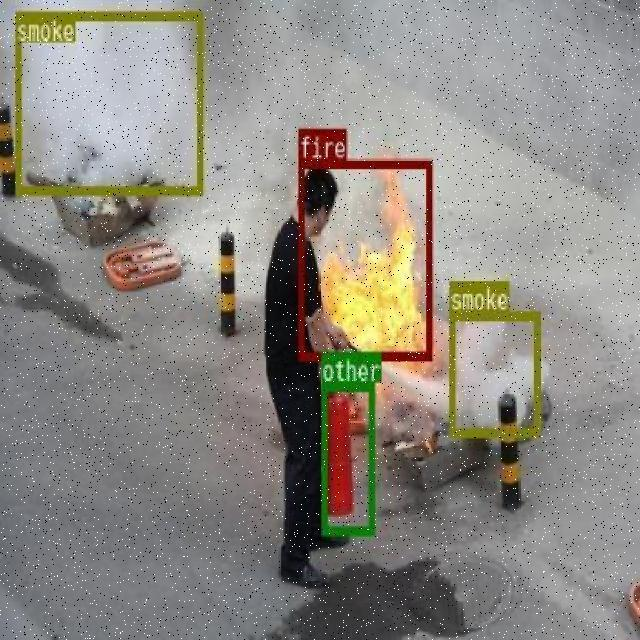Smoke: (14, 11, 202, 194), (448, 310, 538, 436), (320, 381, 372, 534)
